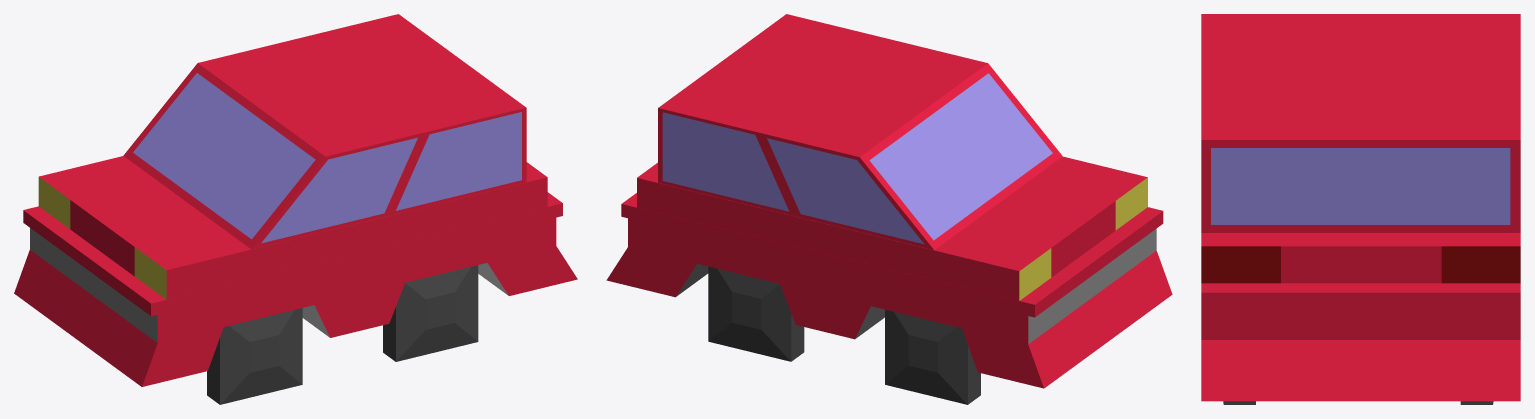
File: car_red.glb
3 views of the same model, side by side, from view 1: azimuth 30°, elevation 25°; view 2: azimuth 150°, elevation 25°; view 3: azimuth 270°, elevation 25° (orthographic). The views are drawn at different scales.
Parts seen in each view (by area): view 1: Top, Chassis, Doors, Middle, Tire1.003, Tire1.001; view 2: Top, Chassis, Doors, Middle, Tire1.002, Tire1; view 3: Top, Chassis, Doors, Middle.
Part boxes in pixels (box(x1,y1,x2,y2)): Top: box(123, 14, 526, 249); Chassis: box(14, 217, 577, 386); Doors: box(38, 156, 547, 299); Middle: box(23, 192, 562, 316); Tire1.003: box(207, 308, 302, 404); Tire1.001: box(383, 265, 478, 361); Top: box(658, 14, 1062, 250); Chassis: box(606, 218, 1172, 388); Doors: box(637, 156, 1147, 300); Middle: box(621, 193, 1163, 317); Tire1.002: box(885, 309, 980, 404); Tire1: box(708, 266, 804, 361); Top: box(1201, 17, 1520, 232); Chassis: box(1201, 308, 1520, 401); Doors: box(1201, 14, 1520, 283); Middle: box(1201, 283, 1520, 308).
Size of the model in its own units: 10.57 by 5.36 by 5.37.
